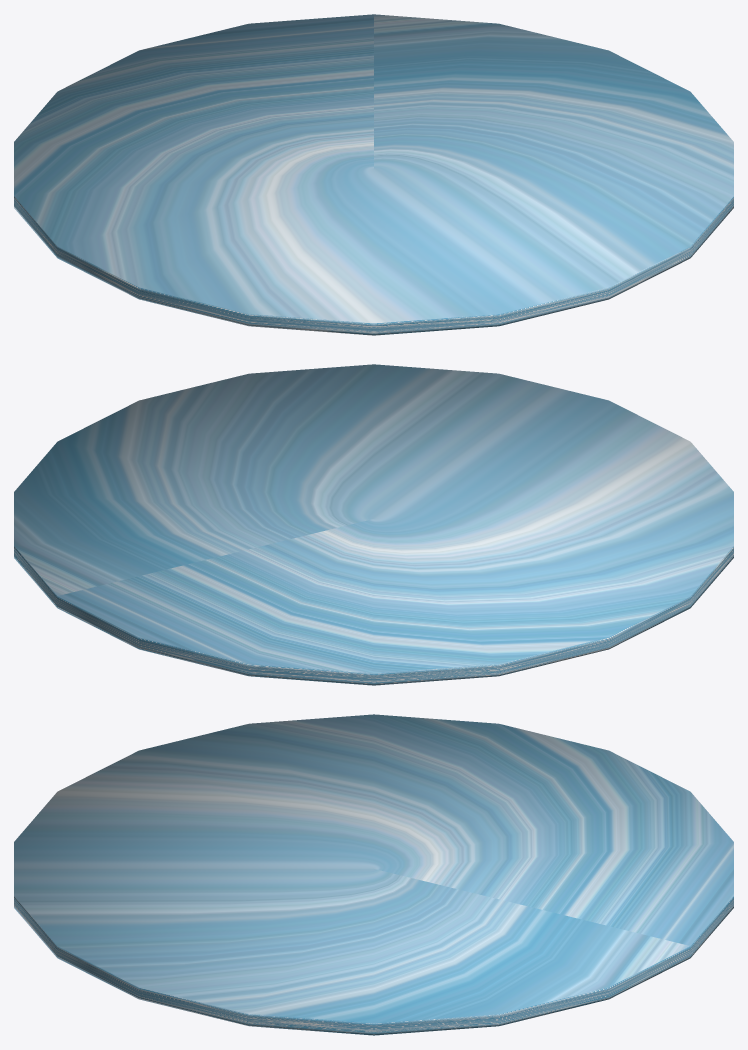
The model's file is rio_congelado.obj.
The picture shows the model from 3 angles, top to bottom: view 1: azimuth 30°, elevation 25°; view 2: azimuth 150°, elevation 25°; view 3: azimuth 270°, elevation 25°; orthographic projection.
Parts seen in each view (by area): view 1: Cylinder002; view 2: Cylinder002; view 3: Cylinder002.
Boxes of the visible parts, left/top/right/bottom form: Cylinder002: left=14, top=14, right=733, bottom=335; Cylinder002: left=14, top=364, right=733, bottom=685; Cylinder002: left=14, top=714, right=733, bottom=1035.
Size of what is drawn, in the model's own units: 27.56 by 0.5112 by 27.15.
Materials: 1 (1 with a texture image).
